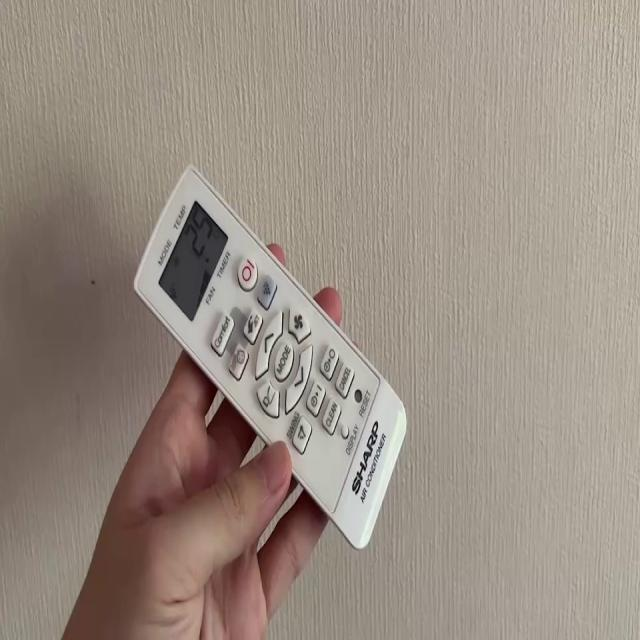remote: (131, 168, 410, 550)
